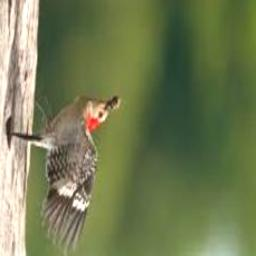Woodpecker: (10, 93, 111, 256)
